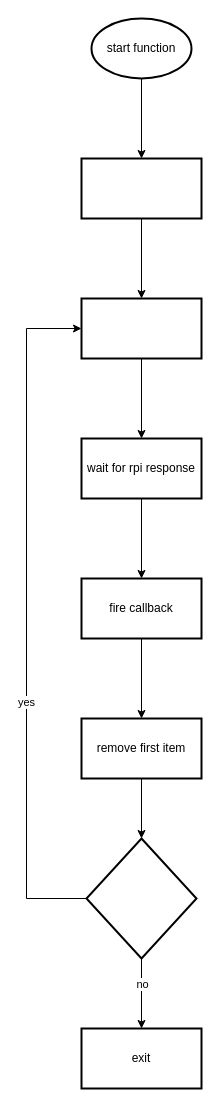
This 219x1106 diagram has some shape labels left out. Here are the shapes that lost their labels. From the top down, the centre of each, then its label:
(141,188): sort callback list based on activation frame
(141,328): select first item from list
(141,898): are there more items in list?
